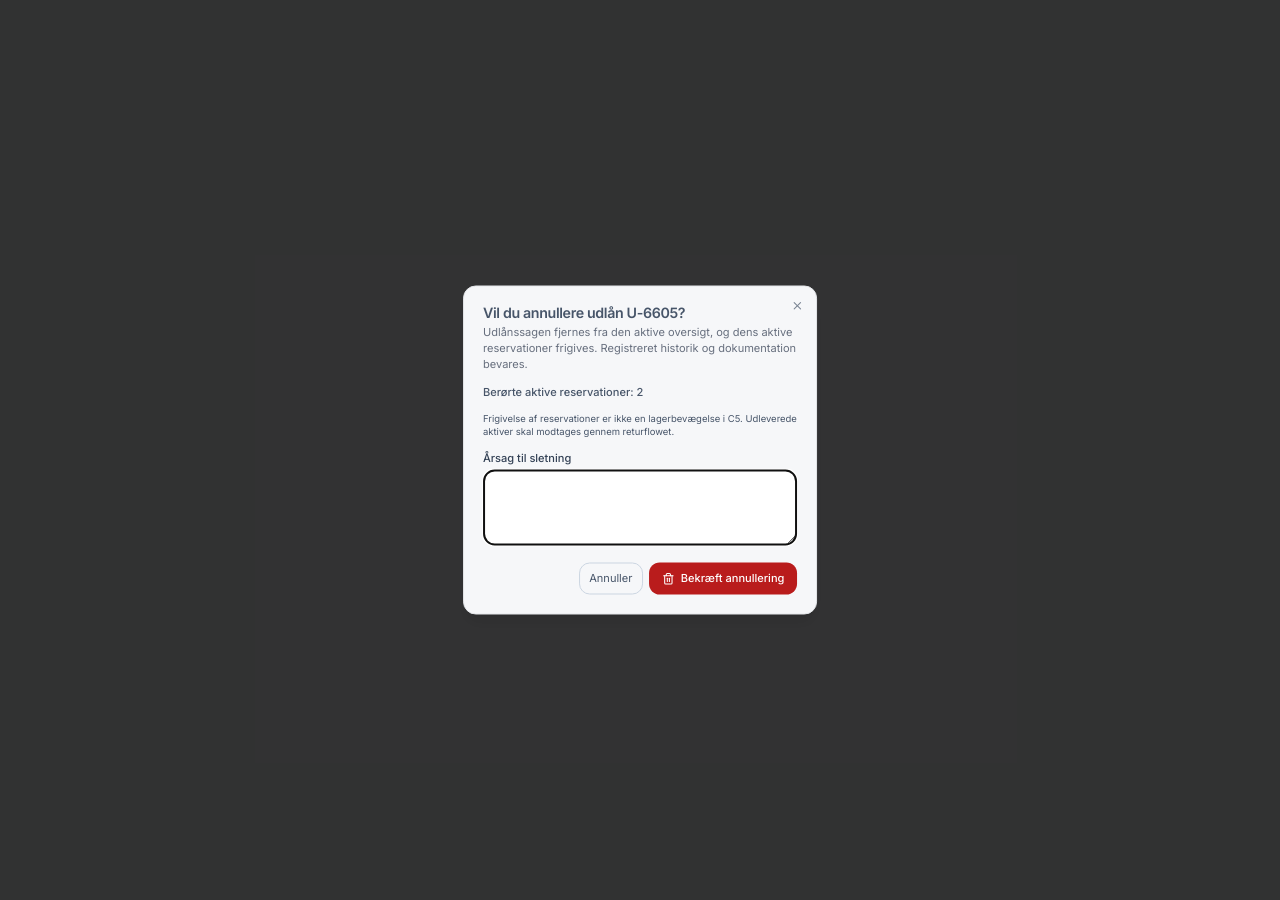
explicit Backend cancellation confirmation › requires a reason, preserves version/idempotency input and reloads after success
Later steps or results of the test are not shown.
Expected: the heading "Vil du annullere udlån U-6605?" is shown, [483,304,685,320]
Expected: the text "Berørte aktive reservationer: 2" is shown, [483,384,643,398]
Step 1. Click the button "Bekræft annullering" → (723, 579), box [649,563,797,595]
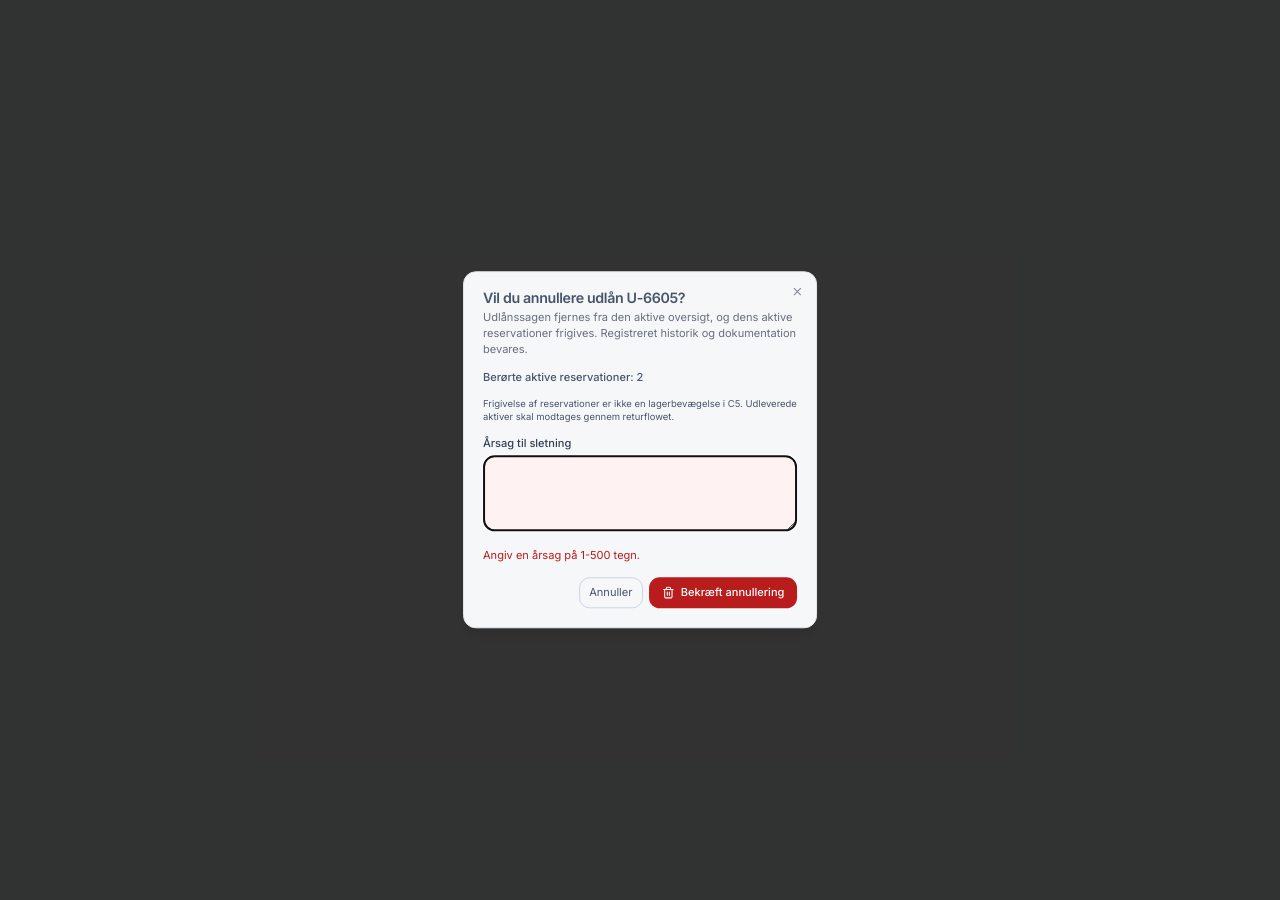
Now the message "Angiv en årsag på 1-500 tegn." is shown, box [483,549,640,563]
